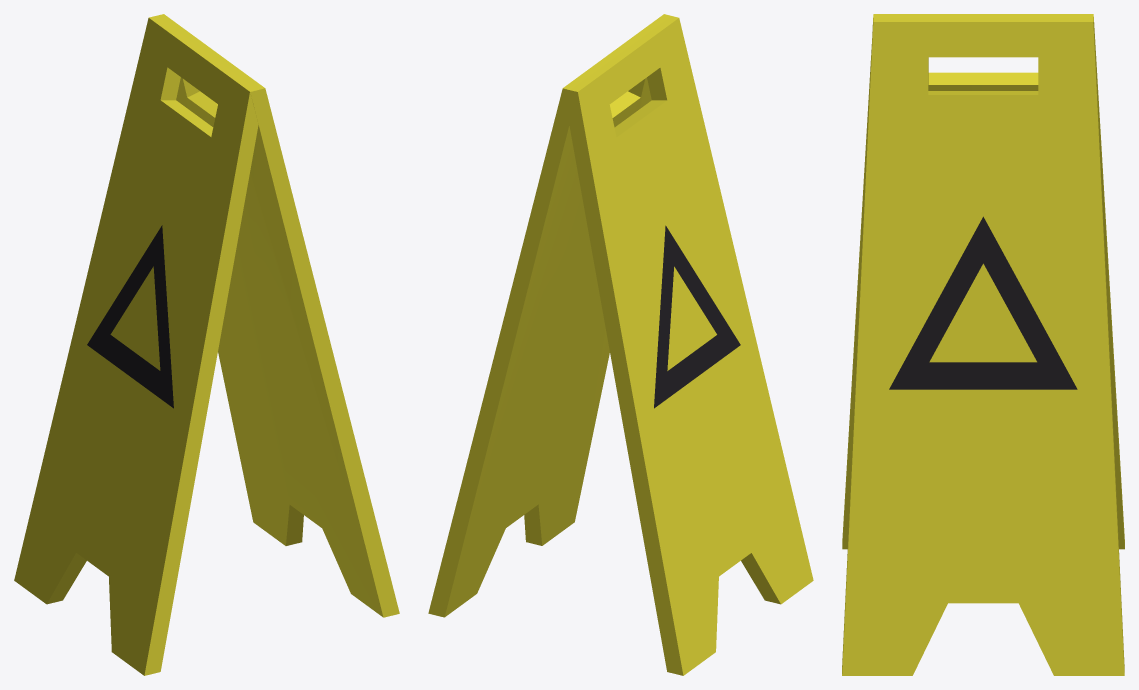
The model's file is wet floor sign.fbx.
3 renders of one model, left to right at view 1: azimuth 30°, elevation 25°; view 2: azimuth 150°, elevation 25°; view 3: azimuth 270°, elevation 25°, orthographic. The views are drawn at different scales.
Visible parts, largest first — view 1: Wet Floor Sign; view 2: Wet Floor Sign; view 3: Wet Floor Sign.
Part boxes in pixels (x1,y1,x2,y2): Wet Floor Sign: (14, 14, 399, 675); Wet Floor Sign: (428, 14, 813, 675); Wet Floor Sign: (842, 14, 1124, 675).
Bounding box in the file's own units: 0.3158 × 0.6432 × 0.2793.
